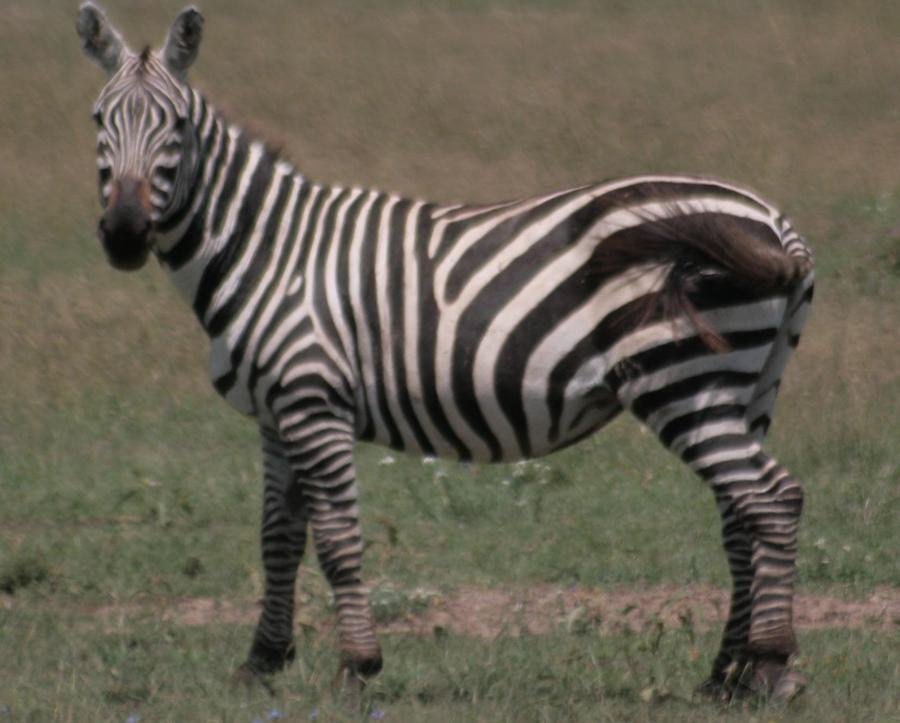zebra_plains: (189, 145, 778, 483)
